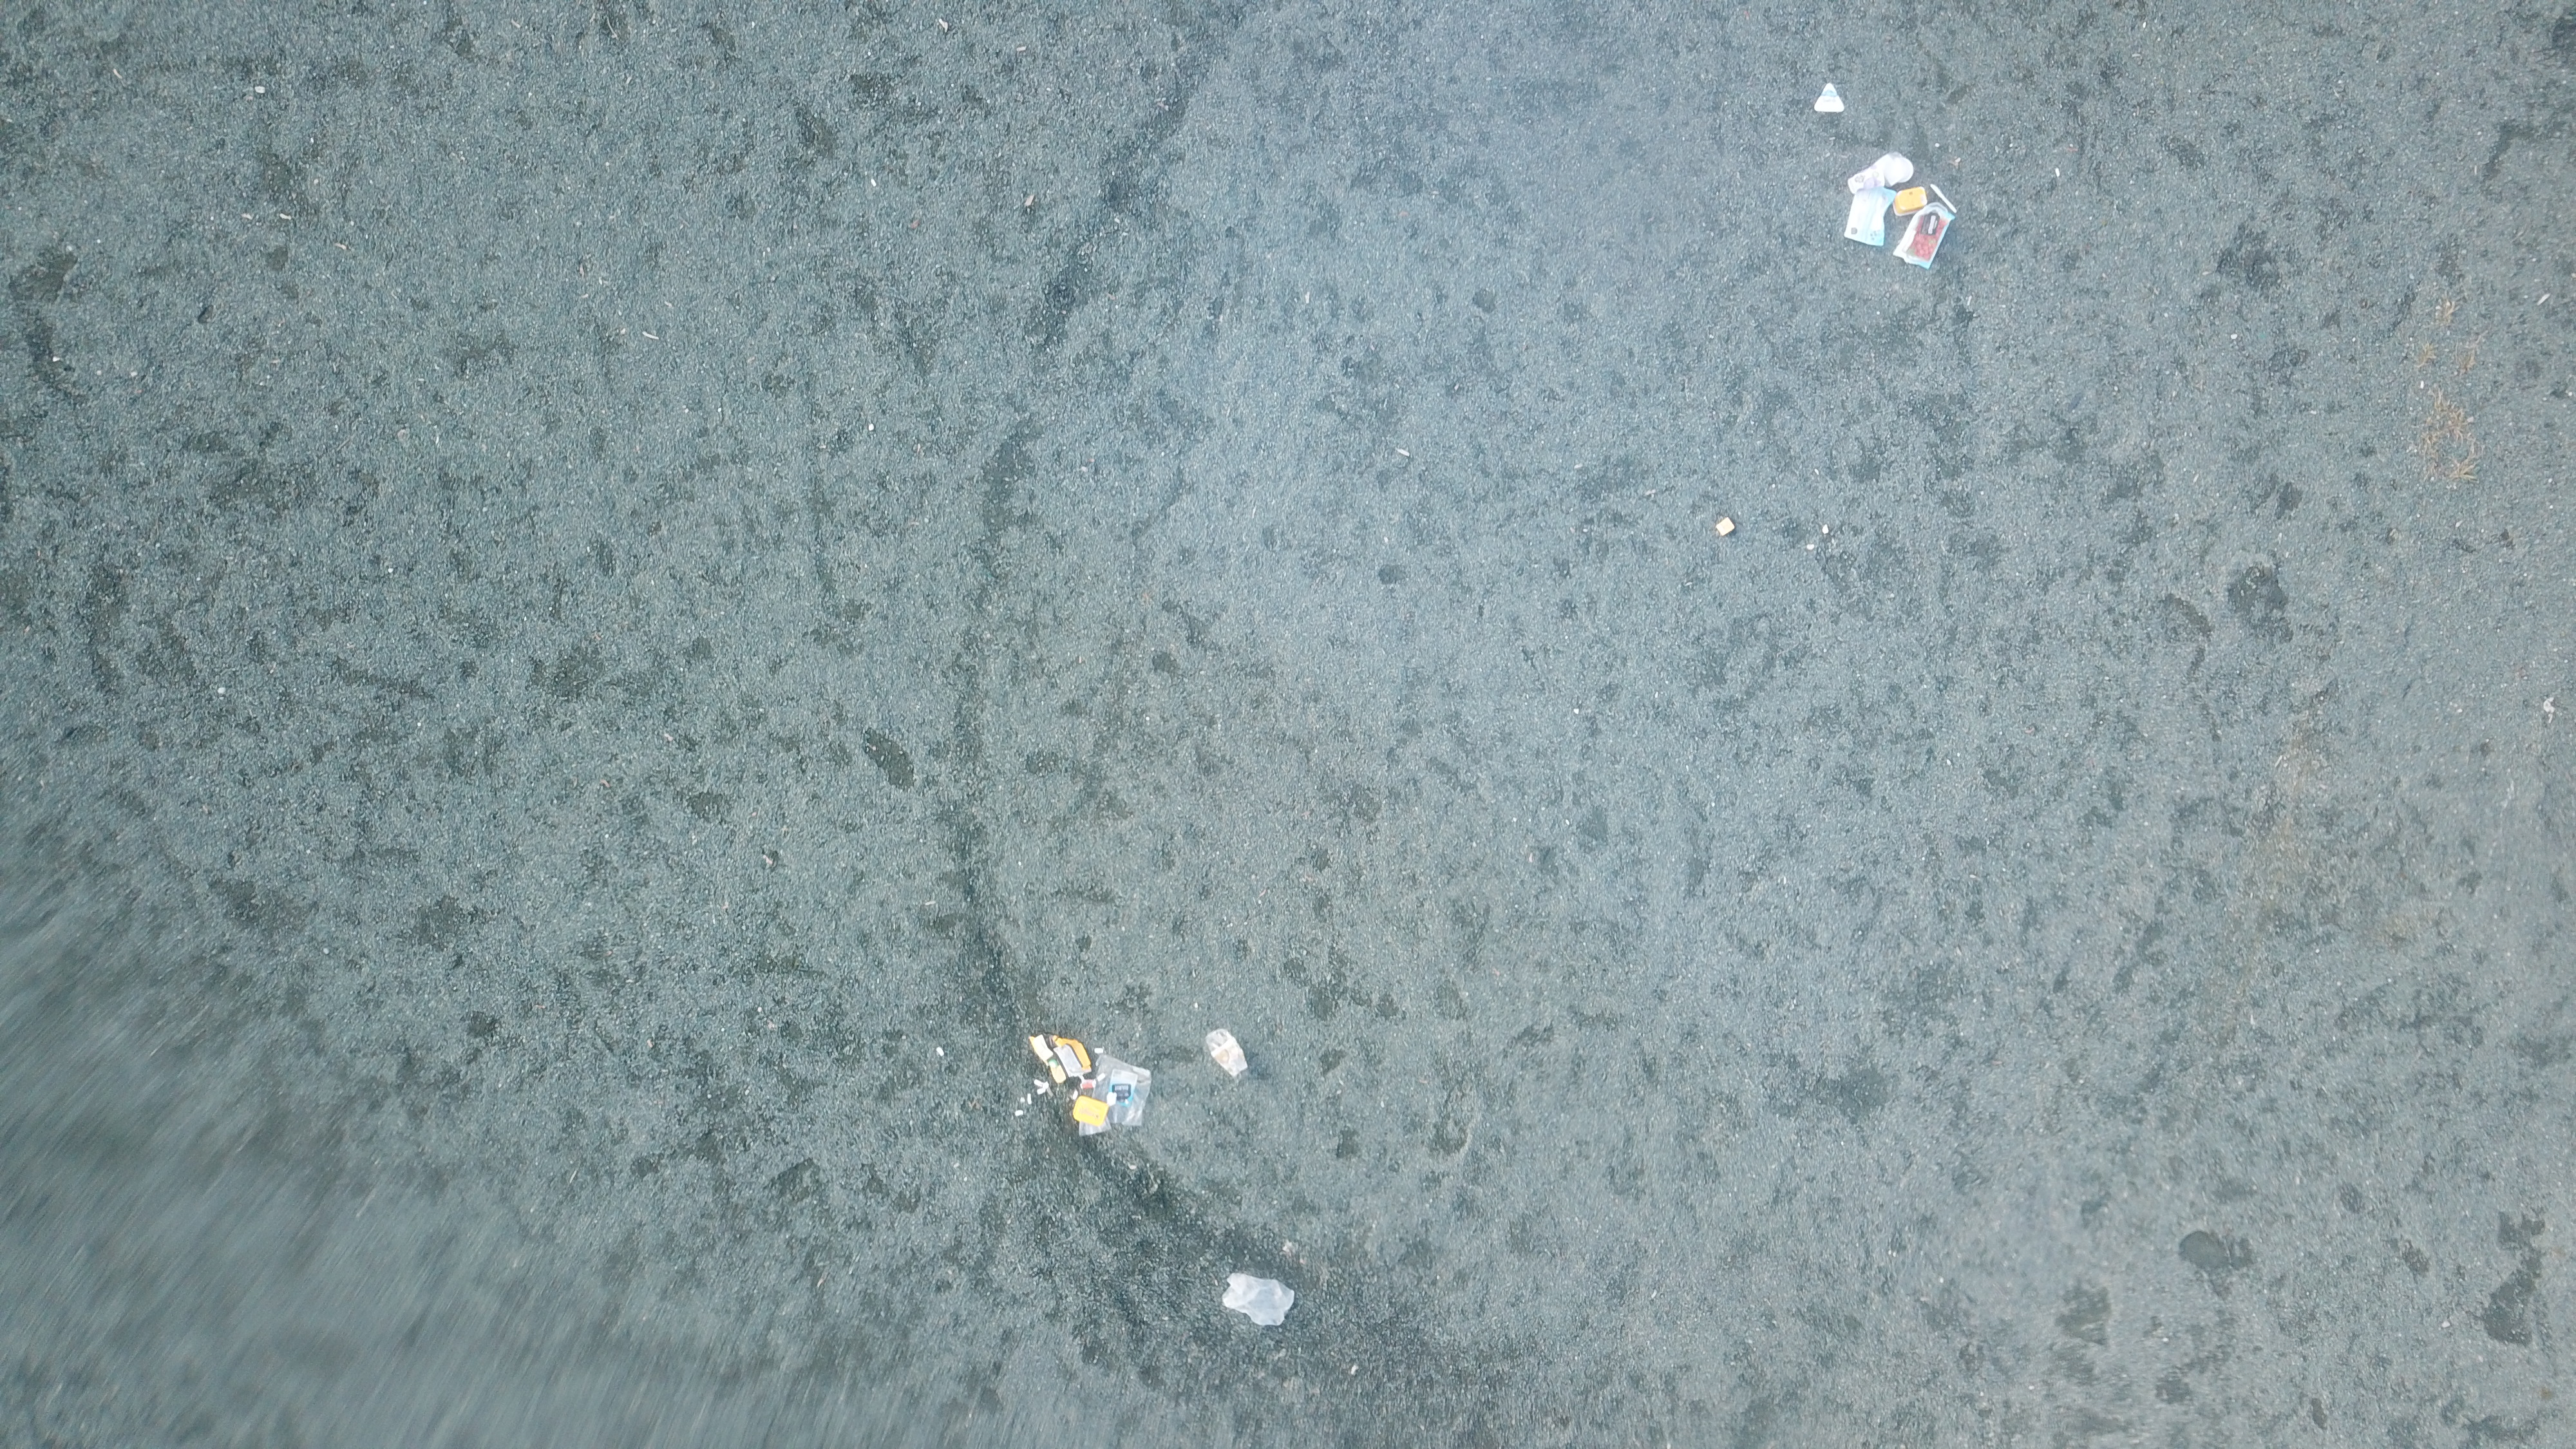Plastic: (1895, 202, 1957, 271), (1223, 1272, 1299, 1327), (1093, 1056, 1154, 1122), (1024, 1031, 1092, 1081), (1844, 189, 1895, 248), (1205, 1024, 1249, 1077), (1069, 1092, 1109, 1125), (1877, 154, 1914, 188), (1847, 166, 1888, 195), (1813, 83, 1845, 115), (1893, 188, 1927, 218), (1930, 184, 1959, 212), (1714, 518, 1736, 536)
